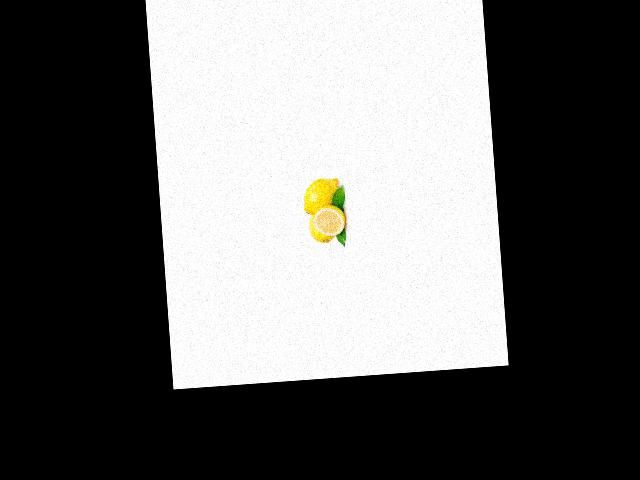lemon: (313, 203, 349, 236)
